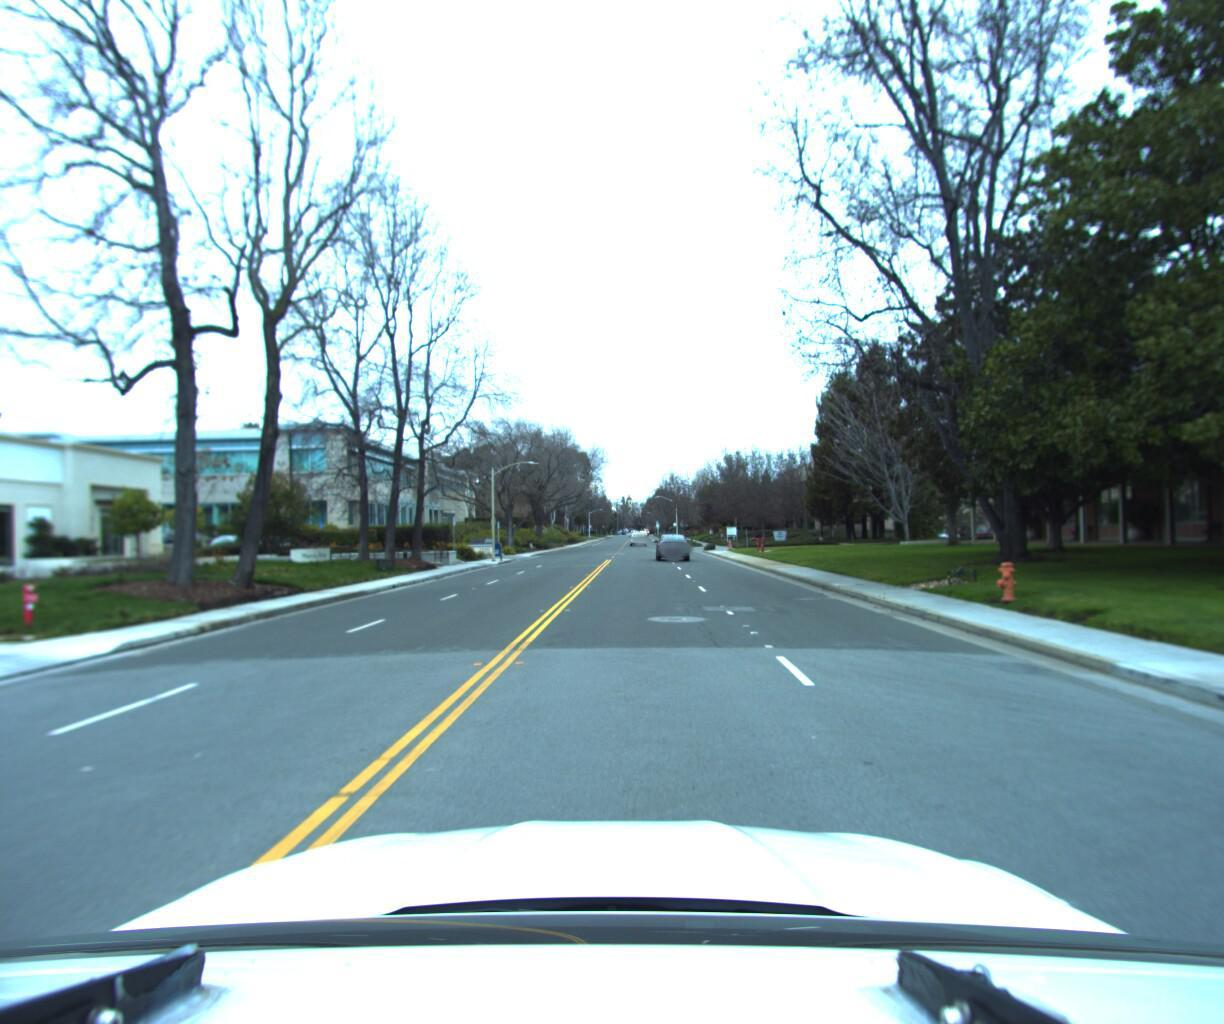car: (651, 531, 688, 558)
